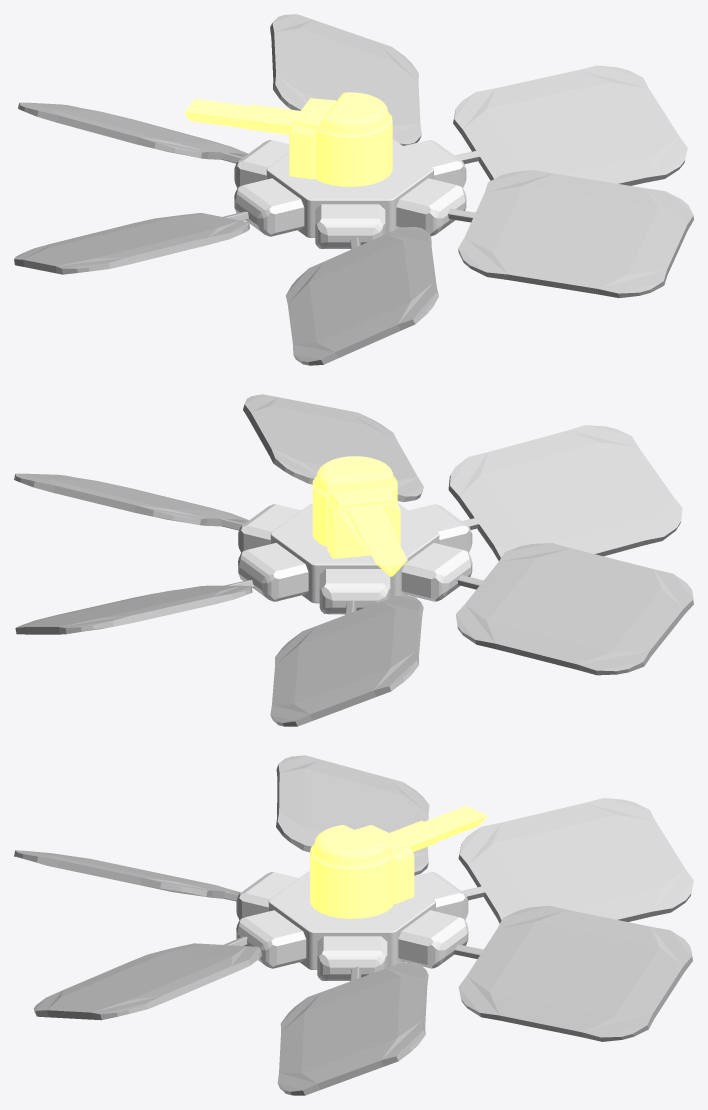
The model's file is Piercing Turret.glb.
3 views of the same model, one above another, from view 1: azimuth 30°, elevation 25°; view 2: azimuth 150°, elevation 25°; view 3: azimuth 270°, elevation 25° (orthographic).
Parts seen in each view (by area): view 1: Solar Panel.003, Solar Panel.005, Turret Base, Solar Panel.001, Solar Panel.006, Turret Head, Solar Panel.002, Solar Panel.004; view 2: Solar Panel.001, Solar Panel.002, Turret Base, Solar Panel.004, Solar Panel.003, Turret Head, Solar Panel.006, Solar Panel.005; view 3: Solar Panel.006, Solar Panel.004, Turret Base, Solar Panel.005, Turret Head, Solar Panel.002, Solar Panel.003, Solar Panel.001.
Boxes of the visible parts, left/top/right/bottom form: Solar Panel.003: left=447, top=170, right=693, bottom=297; Solar Panel.005: left=453, top=65, right=687, bottom=185; Turret Base: left=234, top=139, right=466, bottom=248; Solar Panel.001: left=286, top=226, right=438, bottom=365; Solar Panel.006: left=270, top=14, right=421, bottom=145; Turret Head: left=184, top=92, right=392, bottom=186; Solar Panel.002: left=14, top=211, right=249, bottom=274; Solar Panel.004: left=18, top=102, right=247, bottom=163; Solar Panel.001: left=448, top=425, right=682, bottom=560; Solar Panel.002: left=456, top=543, right=693, bottom=675; Turret Base: left=238, top=503, right=472, bottom=614; Solar Panel.004: left=270, top=596, right=423, bottom=726; Solar Panel.003: left=243, top=394, right=423, bottom=501; Turret Head: left=312, top=456, right=407, bottom=576; Solar Panel.006: left=15, top=580, right=254, bottom=634; Solar Panel.005: left=14, top=473, right=248, bottom=530; Solar Panel.006: left=453, top=905, right=692, bottom=1041; Solar Panel.004: left=458, top=798, right=693, bottom=923; Turret Base: left=236, top=871, right=468, bottom=980; Solar Panel.005: left=277, top=963, right=428, bottom=1095; Turret Head: left=310, top=805, right=487, bottom=918; Solar Panel.002: left=276, top=755, right=429, bottom=875; Solar Panel.003: left=33, top=936, right=262, bottom=1020; Solar Panel.001: left=14, top=850, right=240, bottom=901.
Size of the model in its own units: 8.54 by 1.55 by 8.02.
